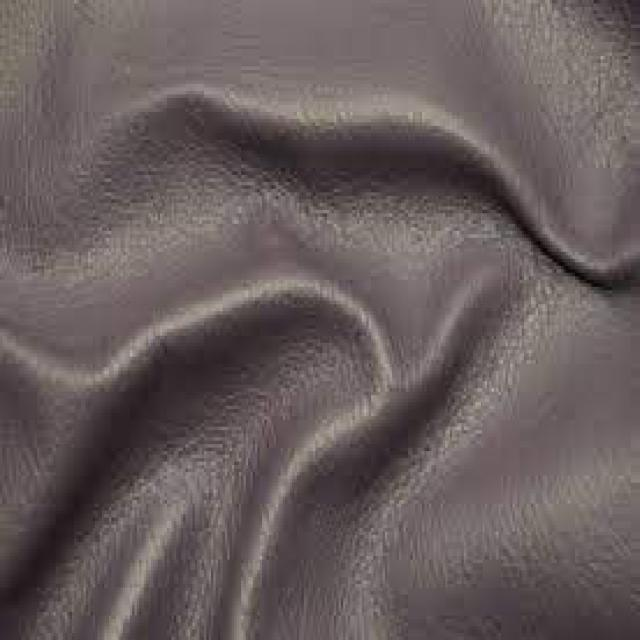Crease: (146, 70, 492, 210), (151, 260, 398, 432)
